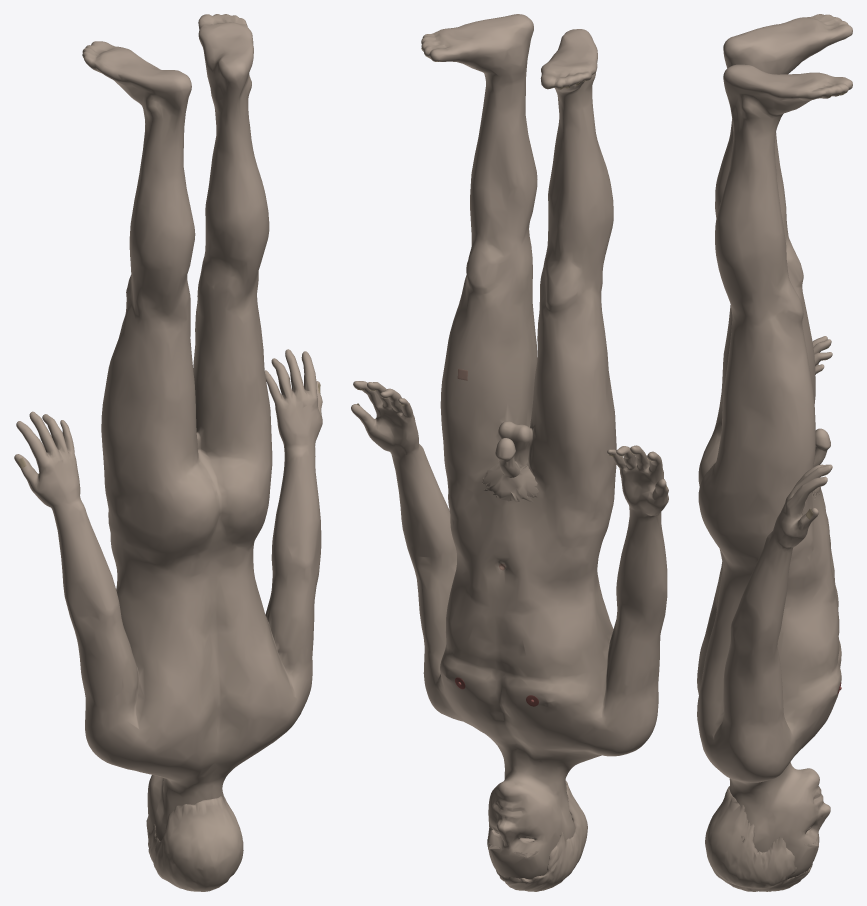
The model's file is skin.glb.
3 renders of one model, left to right at view 1: azimuth 30°, elevation 25°; view 2: azimuth 150°, elevation 25°; view 3: azimuth 270°, elevation 25°, orthographic. The views are drawn at different scales.
Visible parts, largest first — view 1: FJ2810, FJ2813; view 2: FJ2810, FJ2813, FJ2815; view 3: FJ2810, FJ2813.
Boxes of the visible parts, bbox=[...] form: FJ2810: bbox=[14, 14, 322, 840]; FJ2813: bbox=[148, 795, 243, 891]; FJ2810: bbox=[351, 14, 668, 879]; FJ2813: bbox=[496, 781, 587, 891]; FJ2815: bbox=[482, 463, 538, 502]; FJ2810: bbox=[697, 14, 852, 879]; FJ2813: bbox=[705, 786, 812, 891].
Size of the model in its own units: 667 by 1730 by 292.
